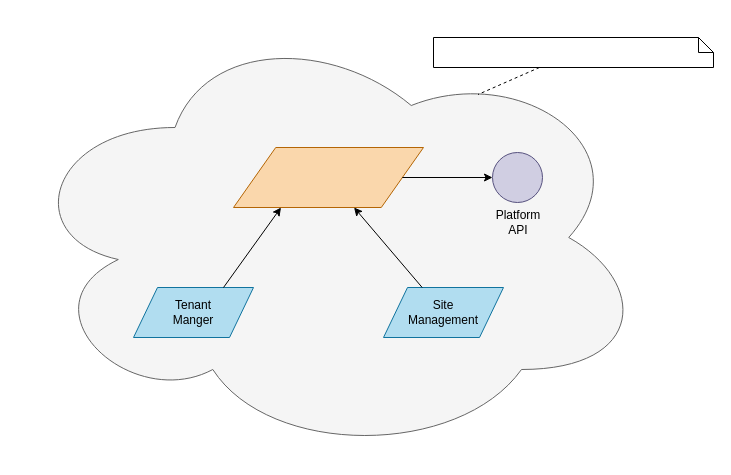
The diagram is 731 pixels wide and 475 high, and some of its shapes have lost their labels. Each missing label, with the box of its shape:
Openshift, Kubernetes or other platform: (432, 36, 714, 68)
PaaS Mediation: (232, 146, 424, 208)
